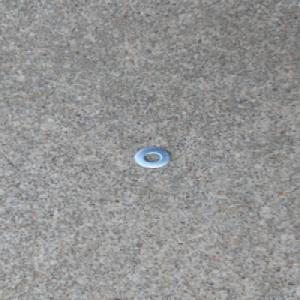Washer: (133, 146, 171, 168)
